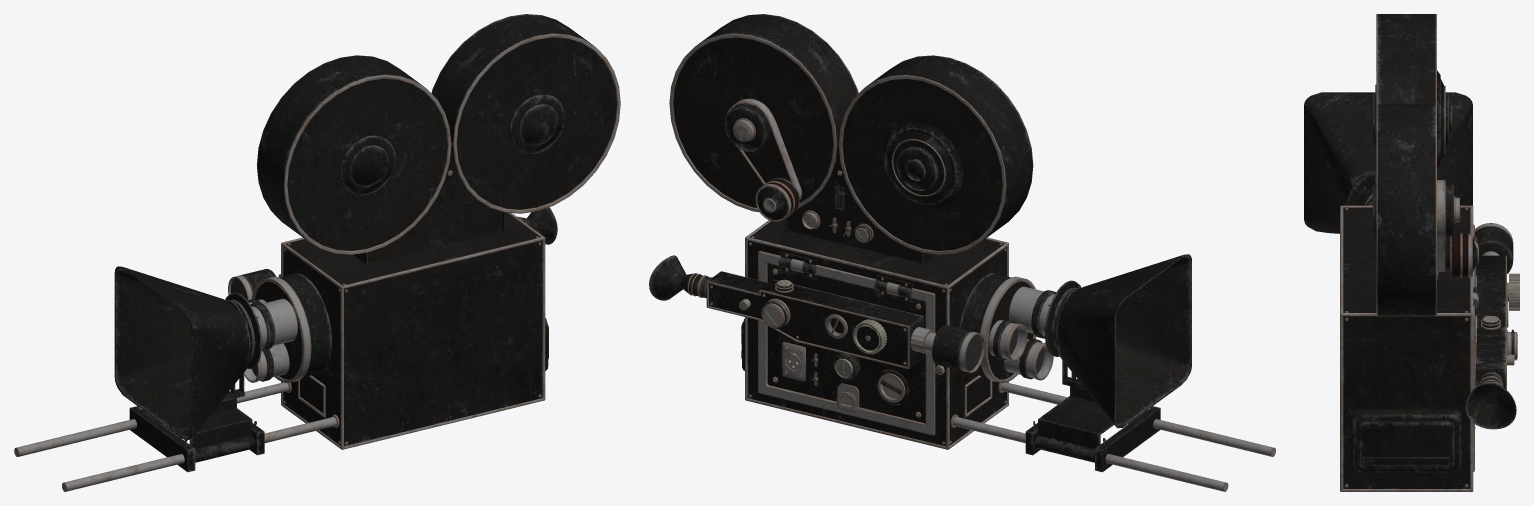
The model's file is movie-camera.glb.
3 views of the same model, side by side, from view 1: azimuth 30°, elevation 25°; view 2: azimuth 150°, elevation 25°; view 3: azimuth 270°, elevation 25° (orthographic). The views are drawn at different scales.
Parts seen in each view (by area): view 1: Camera, Lenses, Eyepiece; view 2: Camera, Eyepiece, Lenses, Handle; view 3: Camera, Eyepiece, Handle.
Part boxes in pixels (x1=…): Camera: x1=14, y1=14, x2=620, y2=491; Lenses: x1=244, y1=273, x2=331, y2=383; Eyepiece: x1=228, y1=207, x2=557, y2=300; Camera: x1=669, y1=14, x2=1275, y2=491; Eyepiece: x1=649, y1=255, x2=985, y2=372; Lenses: x1=959, y1=273, x2=1056, y2=383; Handle: x1=726, y1=98, x2=801, y2=221; Camera: x1=1304, y1=14, x2=1478, y2=491; Eyepiece: x1=1465, y1=223, x2=1519, y2=429; Handle: x1=1437, y1=180, x2=1478, y2=277.
Bounding box in the file's own units: 121 × 71.16 × 36.38.
Materials: 3 (3 with a texture image).
